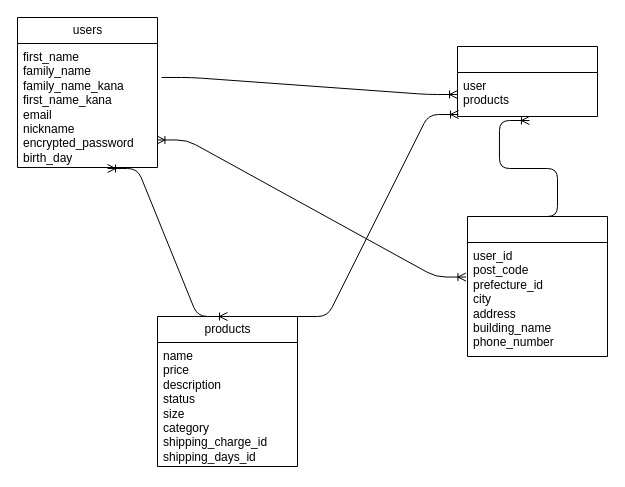
Some shapes in this 625 by 487 pixel diagram are drawn without their labels. Each missing label, with the box of its shape:
destinations: (466, 216, 608, 356)
wallets: (456, 46, 598, 116)
